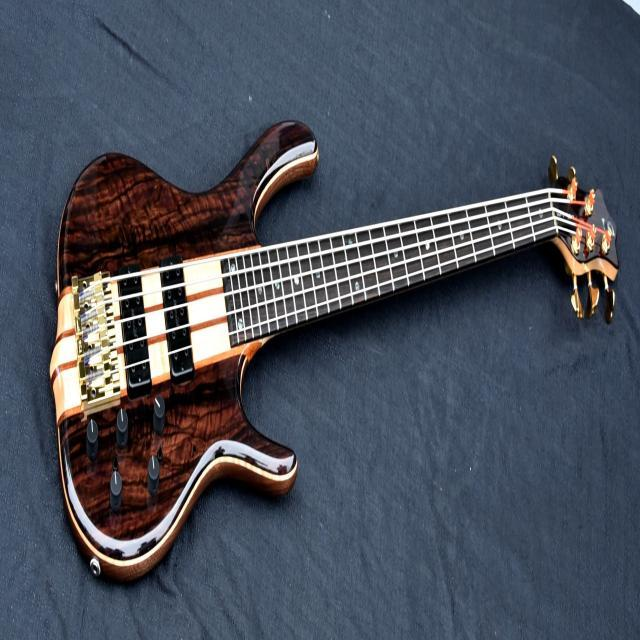bass: (50, 122, 617, 579)
